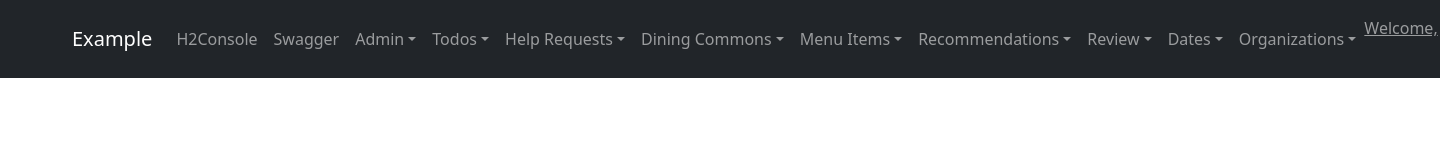
AppNavbar tests › renders the review menu correctly for a user
Expected: the element with test id "appnavbar-review-dropdown" is shown, [1087, 28, 1140, 50]
Click the button "Review": (1119, 39) [1079, 19, 1160, 59]
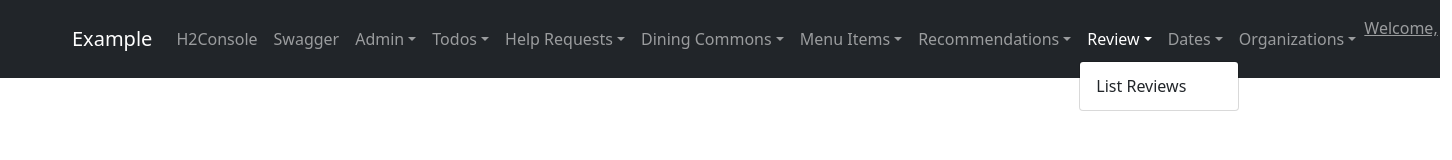
Expected: the link with test id "appnavbar-review-list" is shown, [1096, 75, 1186, 97]
